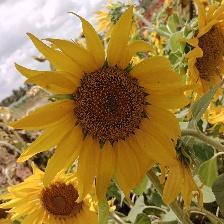sunflower: (31, 41, 177, 186)
